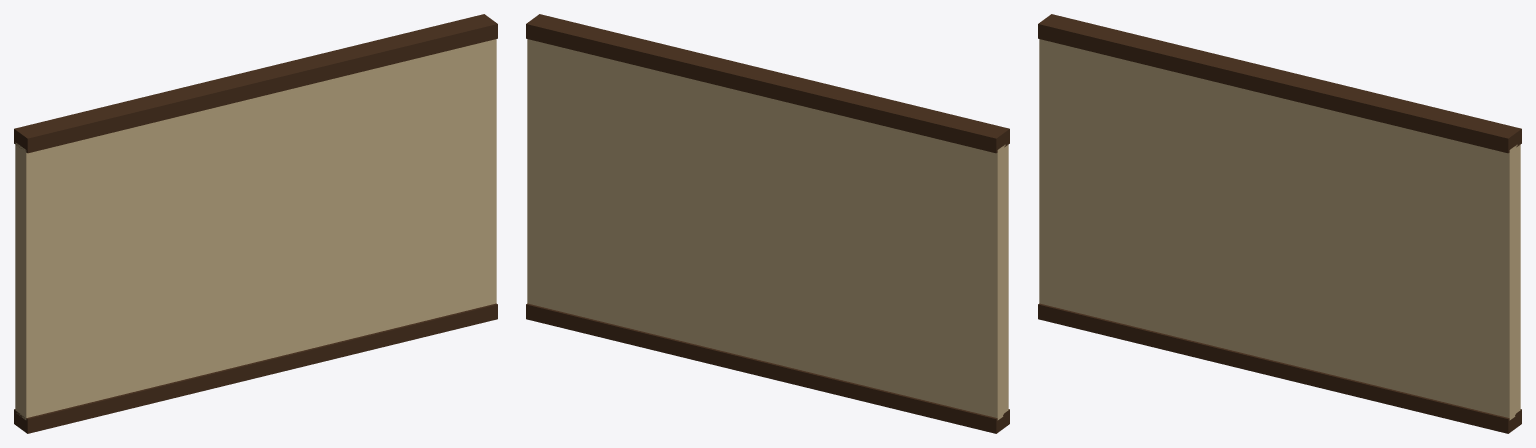
Rendered from hanok_wall_mud.glb.
3 renders of one model, left to right at view 1: azimuth 30°, elevation 25°; view 2: azimuth 150°, elevation 25°; view 3: azimuth 330°, elevation 25°, orthographic.
Parts seen in each view (by area): view 1: hanok_wall_mud; view 2: hanok_wall_mud; view 3: hanok_wall_mud.
Boxes of the visible parts, x1=… form: hanok_wall_mud: x1=14, y1=14, x2=497, y2=433; hanok_wall_mud: x1=526, y1=14, x2=1009, y2=433; hanok_wall_mud: x1=1038, y1=14, x2=1521, y2=433.
Bounding box in the file's own units: 4 × 2.4 × 0.2.
